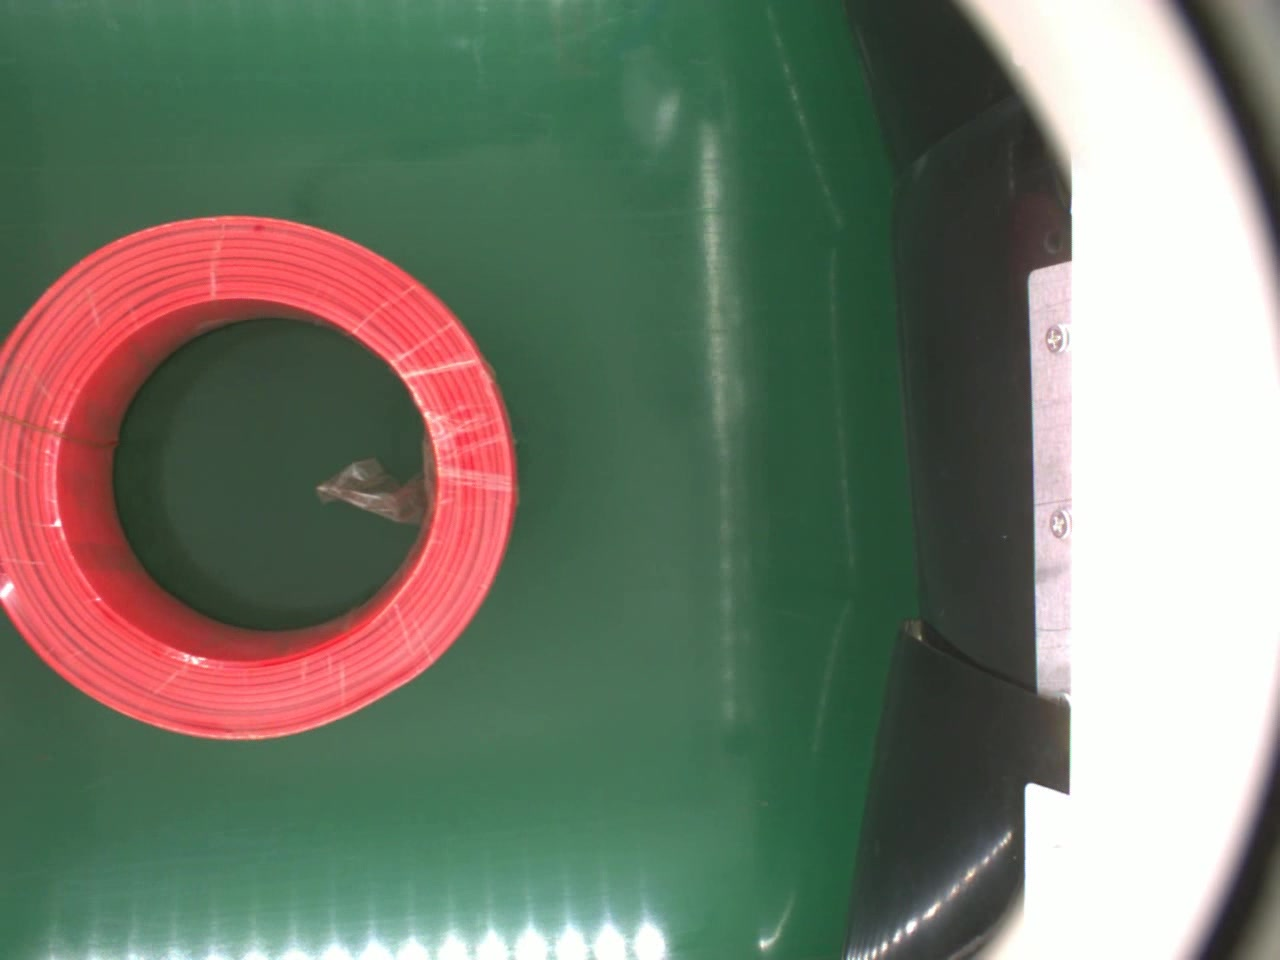red: (0, 213, 523, 744)
